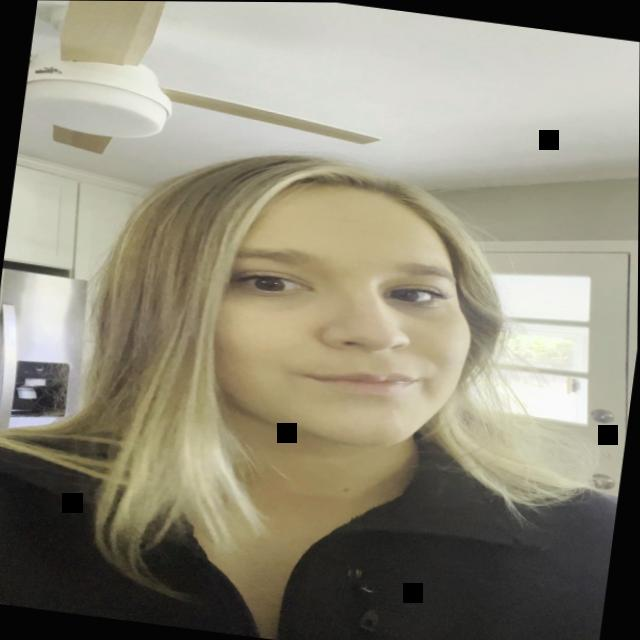NO-Mask: (164, 152, 512, 489)
